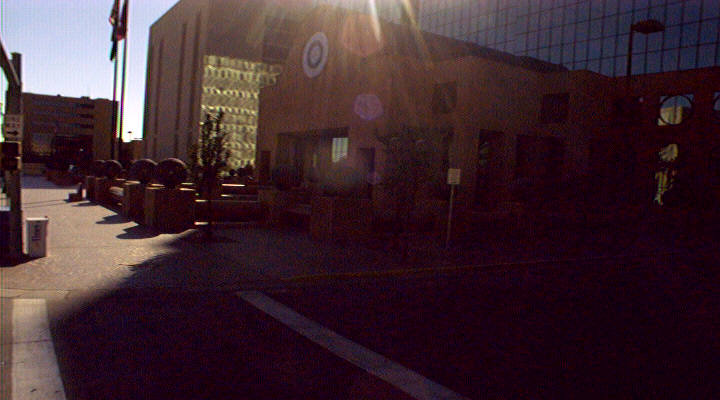Ramp: (3, 247, 296, 301)
